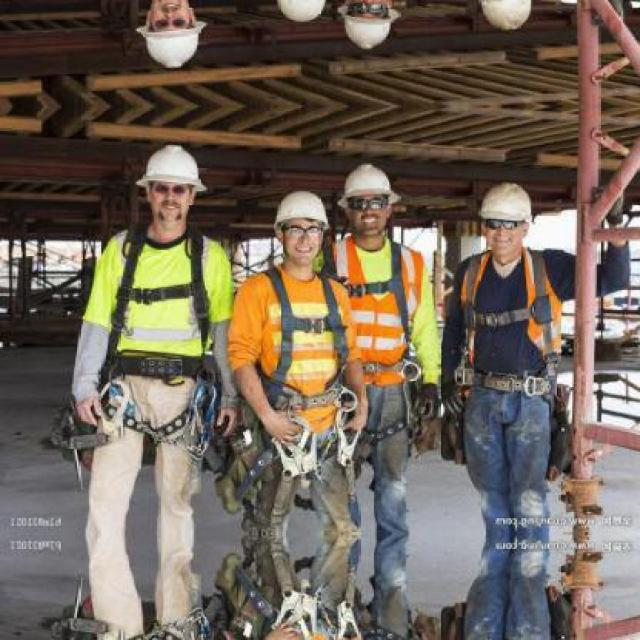Reflective-Jacket: (77, 224, 237, 382), (331, 236, 442, 395), (234, 265, 348, 410), (456, 244, 570, 387)
Safety-Helmet: (132, 140, 214, 198), (471, 177, 543, 233), (266, 183, 332, 236), (334, 158, 404, 206)
